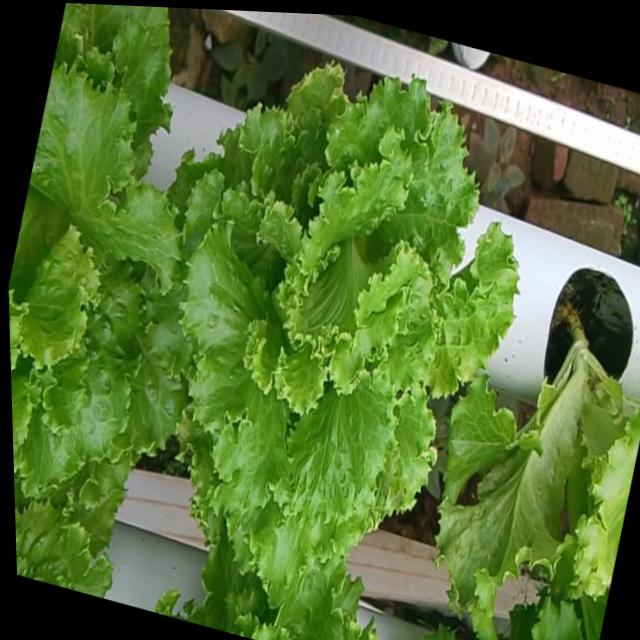Mature: (186, 50, 528, 568), (8, 34, 201, 479)
